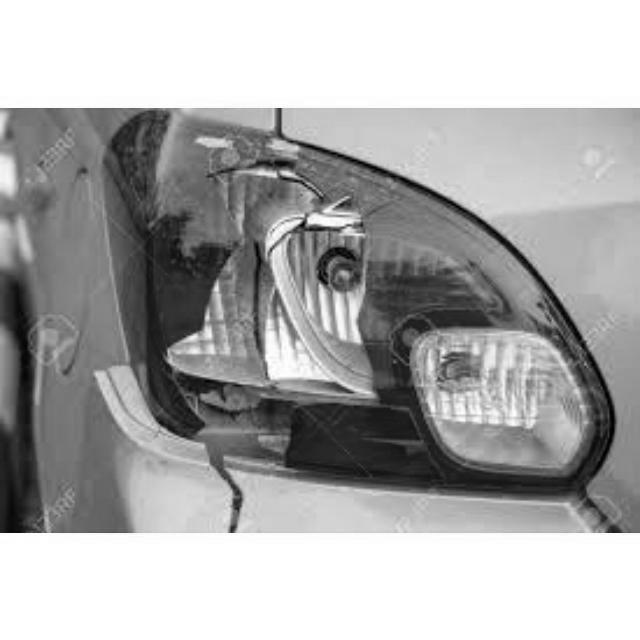Taillight-Damage: (105, 112, 617, 493)
